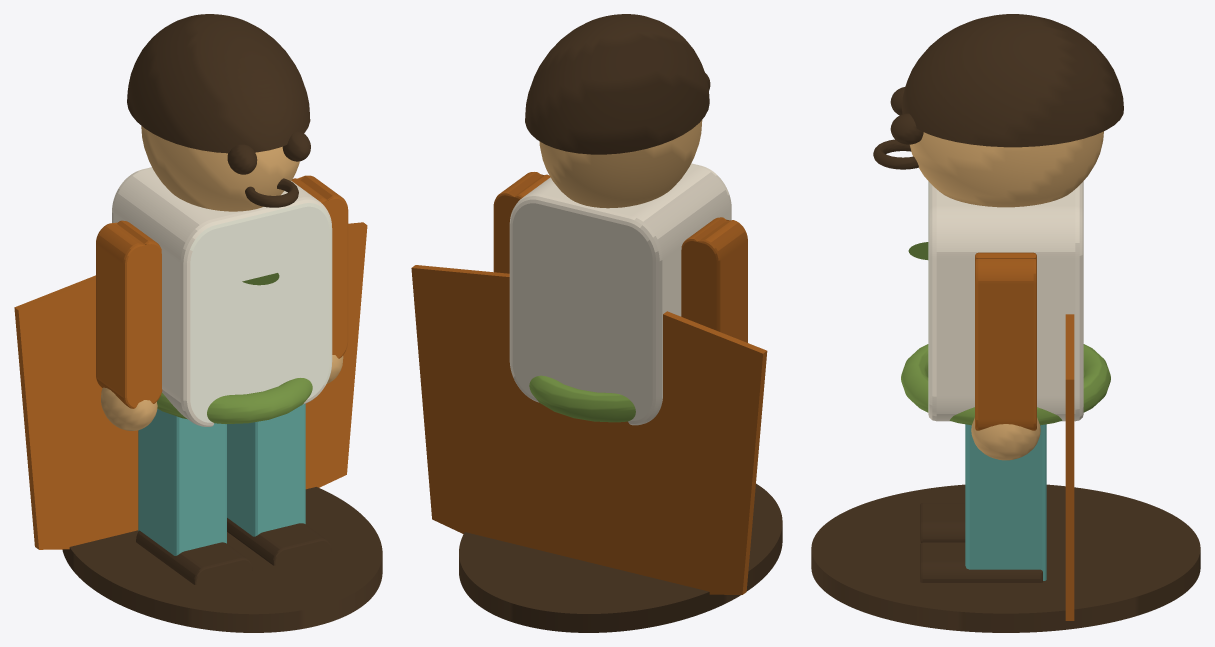
The model's file is 0394_欧洲文明图鉴_沙龙女主人.glb.
The picture shows the model from 3 angles, left to right: view 1: azimuth 30°, elevation 25°; view 2: azimuth 150°, elevation 25°; view 3: azimuth 270°, elevation 25°; orthographic projection. The views are drawn at different scales.
Parts seen in each view (by area): view 1: card_0394; view 2: card_0394; view 3: card_0394.
Boxes of the visible parts, <box> form: card_0394: <box>14,14,382,632</box>; card_0394: <box>411,14,782,632</box>; card_0394: <box>811,14,1200,632</box>.
Size of the model in its own units: 0.6739 by 1 by 0.6319.
